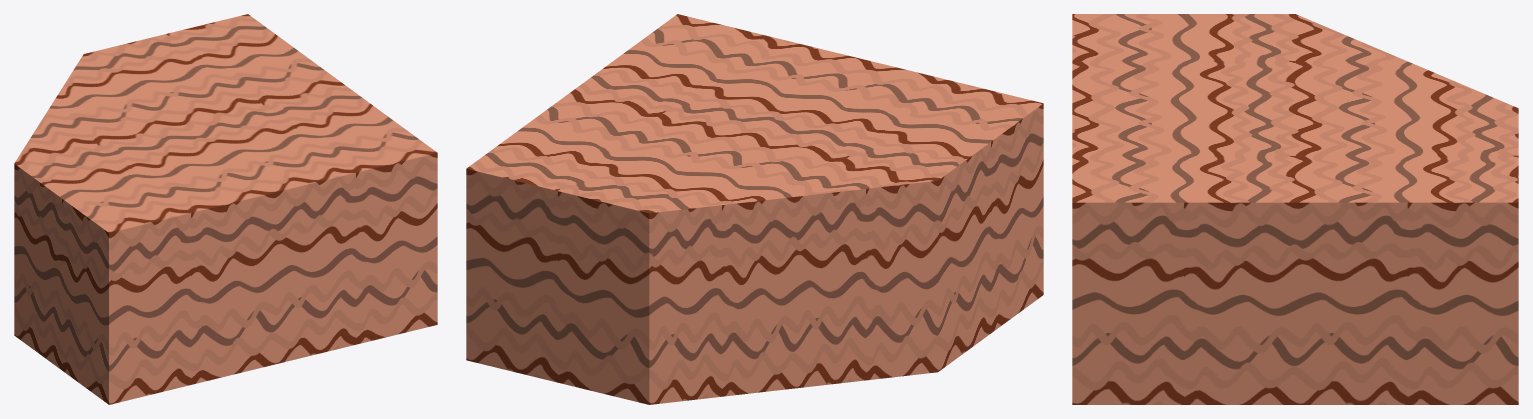
The model's file is a_z2_path_02.fbx.
The picture shows the model from 3 angles, left to right: view 1: azimuth 30°, elevation 25°; view 2: azimuth 150°, elevation 25°; view 3: azimuth 270°, elevation 25°; orthographic projection. The views are drawn at different scales.
Parts seen in each view (by area): view 1: a_z2_groundBlock_02; view 2: a_z2_groundBlock_02; view 3: a_z2_groundBlock_02.
Part boxes in pixels (left/top/right/bottom): a_z2_groundBlock_02: left=14, top=14, right=437, bottom=404; a_z2_groundBlock_02: left=466, top=14, right=1043, bottom=404; a_z2_groundBlock_02: left=1072, top=14, right=1518, bottom=404.
Size of the model in its own units: 600 by 300 by 600.
Materials: 1 (1 with a texture image).
